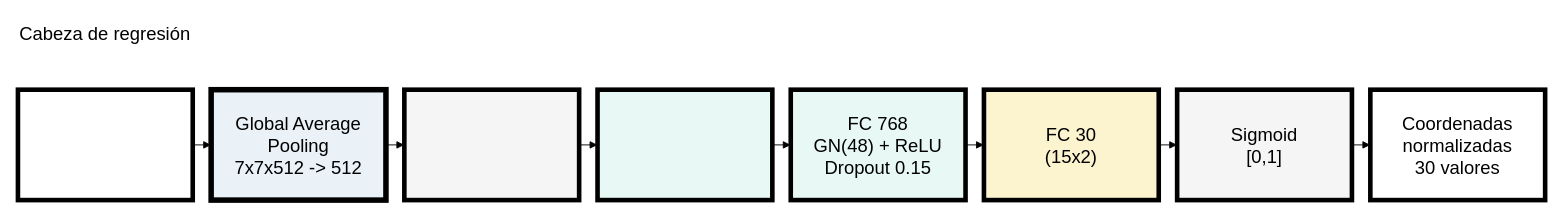
Some shapes in this 1563 by 218 pixel diagram are drawn without their labels. Here are the shapes that lost their labels. From the top down, the box of each, then its label:
(15, 87, 195, 202): Mapa de características 7x7x512 (ResNet-18 + CA)
(402, 87, 581, 202): Flatten 512
(595, 87, 774, 202): FC 512 GN(32) + ReLU Dropout 0.3
